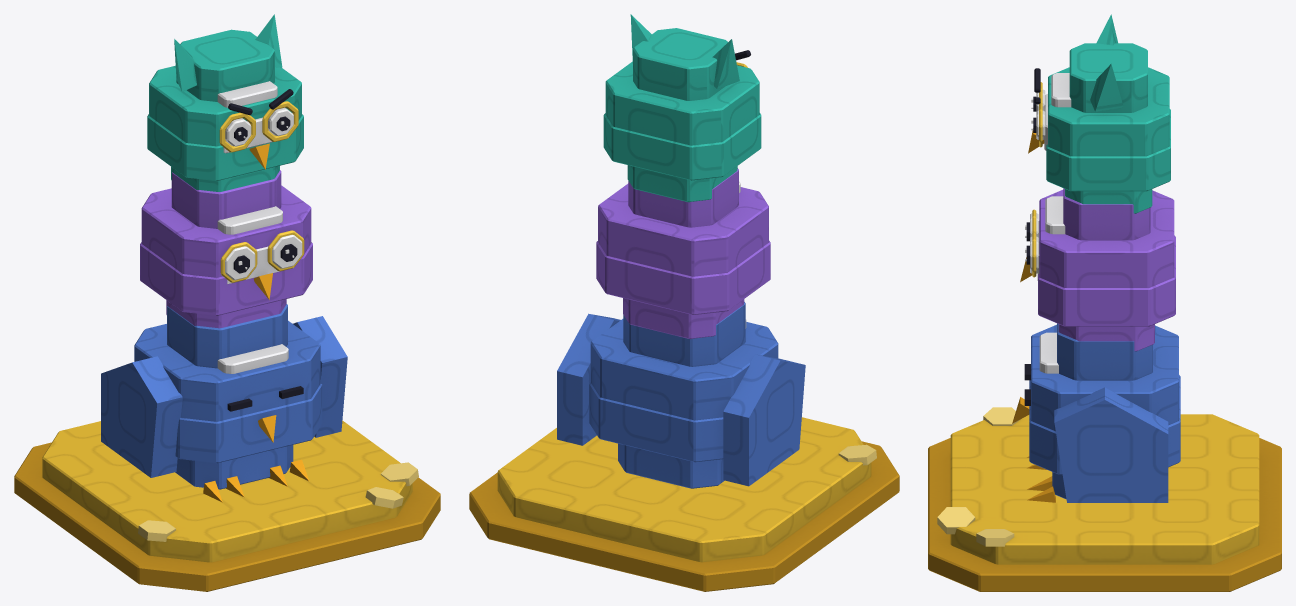
File: OwlTotem.fbx
3 renders of one model, left to right at view 1: azimuth 30°, elevation 25°; view 2: azimuth 150°, elevation 25°; view 3: azimuth 270°, elevation 25°, orthographic.
Visible parts, largest first — view 1: Art_OwlTotem_Stand, Art_OwlTotem_OwlLow, Art_OwlTotem_OwlMid, Art_OwlTotem_OwlTop; view 2: Art_OwlTotem_Stand, Art_OwlTotem_OwlLow, Art_OwlTotem_OwlTop, Art_OwlTotem_OwlMid; view 3: Art_OwlTotem_Stand, Art_OwlTotem_OwlLow, Art_OwlTotem_OwlMid, Art_OwlTotem_OwlTop.
Boxes of the visible parts, <box> form: Art_OwlTotem_Stand: <box>14,420,440,591</box>; Art_OwlTotem_OwlLow: <box>101,304,347,502</box>; Art_OwlTotem_OwlMid: <box>140,170,312,328</box>; Art_OwlTotem_OwlTop: <box>147,14,303,191</box>; Art_OwlTotem_Stand: <box>469,417,899,591</box>; Art_OwlTotem_OwlLow: <box>557,302,805,488</box>; Art_OwlTotem_OwlTop: <box>603,14,761,202</box>; Art_OwlTotem_OwlMid: <box>596,168,770,339</box>; Art_OwlTotem_Stand: <box>928,407,1281,591</box>; Art_OwlTotem_OwlLow: <box>1012,323,1180,502</box>; Art_OwlTotem_OwlMid: <box>1020,188,1175,351</box>; Art_OwlTotem_OwlTop: <box>1028,14,1170,213</box>.
Bounding box in the file's own units: 2.8 × 4.18 × 2.8.
